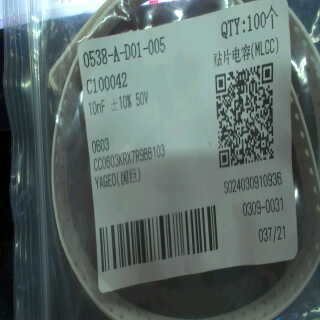10nF: (86, 98, 106, 120)
